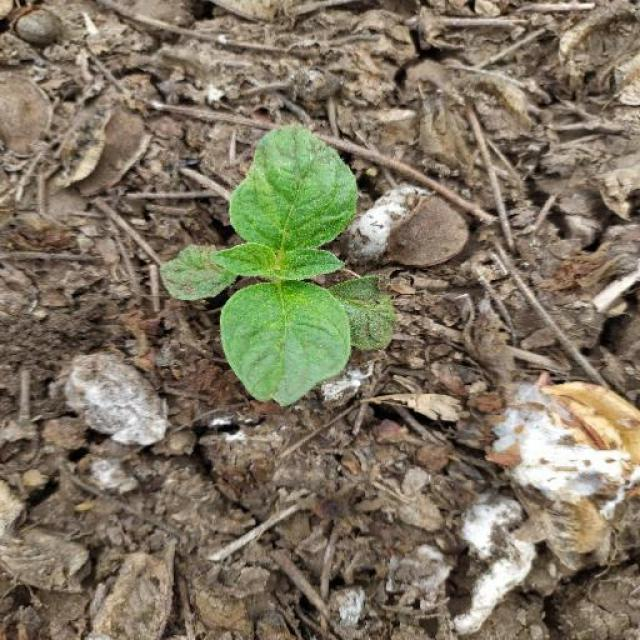crop: (153, 114, 395, 414)
